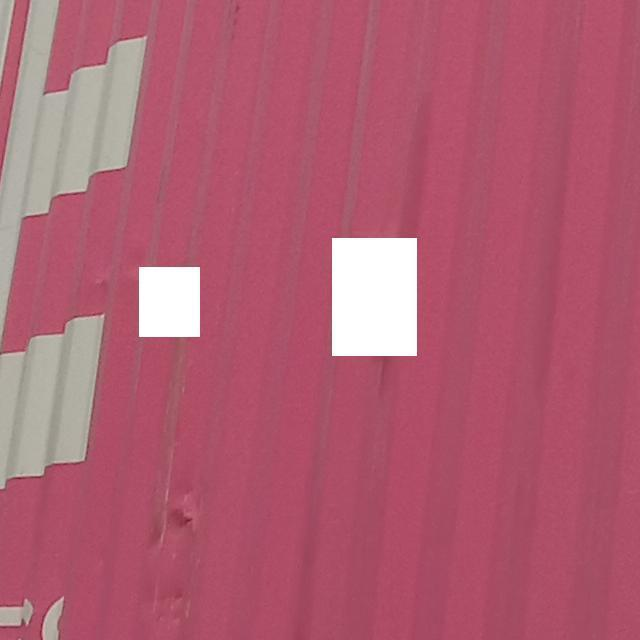dent: (126, 475, 216, 626)
